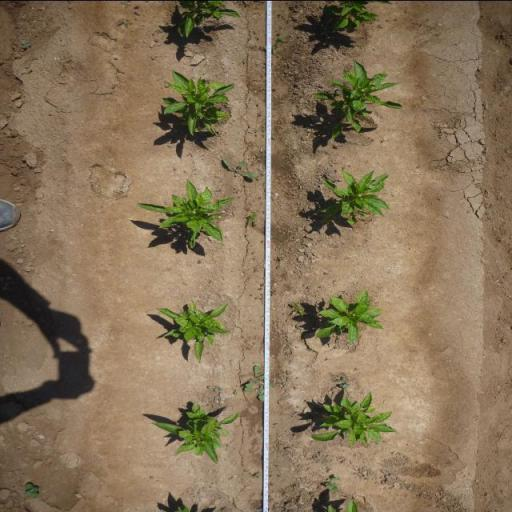plant: (306, 56, 406, 142), (135, 176, 234, 253), (149, 401, 241, 465), (160, 68, 238, 138), (310, 391, 400, 447), (154, 299, 232, 361), (316, 168, 393, 228), (313, 288, 386, 344), (173, 0, 241, 38), (331, 0, 392, 30)
weed: (244, 364, 274, 388), (222, 157, 256, 178), (21, 479, 42, 501), (262, 34, 284, 50), (290, 301, 311, 317), (244, 387, 265, 401), (325, 474, 341, 492), (244, 211, 260, 227), (116, 16, 134, 28), (19, 38, 33, 51), (206, 383, 224, 392), (258, 122, 266, 137), (338, 382, 352, 390), (336, 375, 348, 382), (252, 470, 262, 478), (308, 347, 318, 353), (252, 265, 260, 272), (156, 27, 164, 34), (256, 428, 264, 434), (271, 289, 278, 295), (259, 281, 266, 286), (226, 442, 231, 448), (254, 296, 264, 299), (260, 84, 265, 90), (257, 45, 263, 50), (233, 188, 240, 192), (260, 321, 265, 326), (274, 422, 280, 426), (258, 286, 264, 290), (279, 256, 285, 260), (256, 174, 260, 180), (323, 271, 330, 274), (233, 390, 237, 395), (355, 366, 360, 370), (326, 358, 332, 360)
